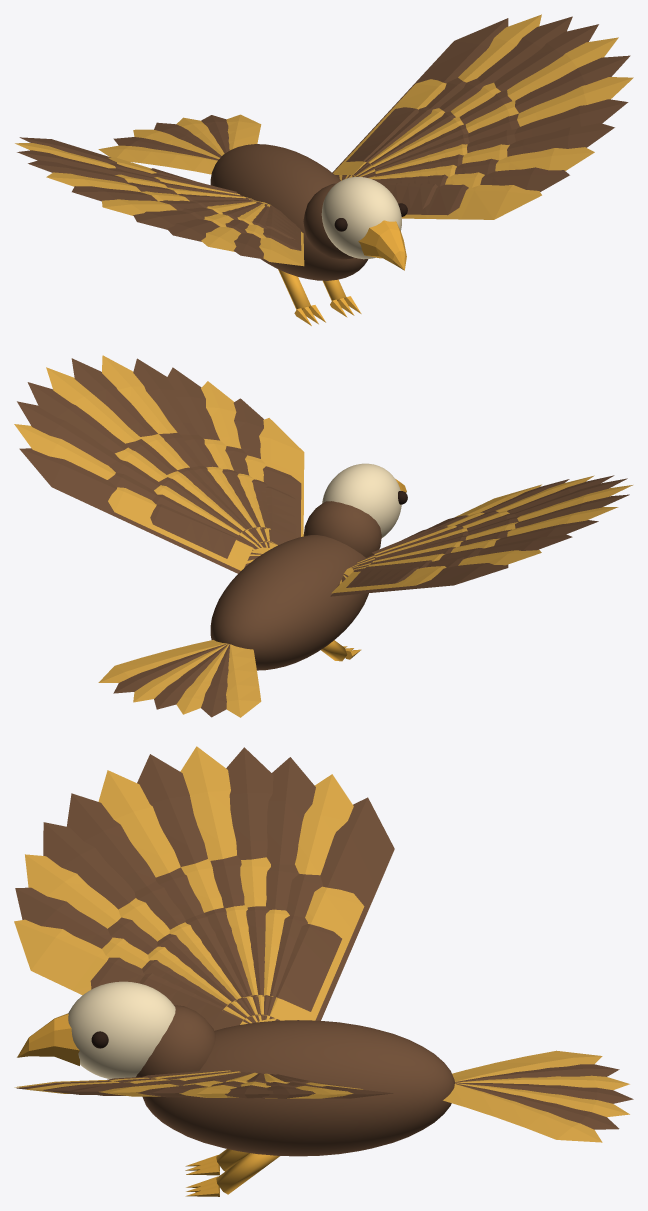
Rendered from eagle_flying.glb.
The picture shows the model from 3 angles, top to bottom: view 1: azimuth 30°, elevation 25°; view 2: azimuth 150°, elevation 25°; view 3: azimuth 270°, elevation 25°; orthographic projection. The views are drawn at different scales.
Visible parts, largest first — view 1: wing_R__eagle_brown_flat, wing_R__eagle_gold_flat, wing_L__eagle_brown_flat, body__eagle_brown, wing_L__eagle_gold_flat, body__eagle_cream, tail__eagle_gold_flat, tail__eagle_brown_flat, body__eagle_beak_flat, talons__eagle_beak, talons__eagle_beak_flat; view 2: wing_R__eagle_brown_flat, body__eagle_brown, wing_R__eagle_gold_flat, wing_L__eagle_brown_flat, wing_L__eagle_gold_flat, tail__eagle_gold_flat, body__eagle_cream, tail__eagle_brown_flat; view 3: wing_L__eagle_brown_flat, wing_L__eagle_gold_flat, body__eagle_brown, tail__eagle_gold_flat, body__eagle_cream, wing_R__eagle_brown_flat, tail__eagle_brown_flat, wing_R__eagle_gold_flat, body__eagle_beak_flat, talons__eagle_beak, talons__eagle_beak_flat.
Boxes of the visible parts, left/top/right/bottom form: wing_R__eagle_brown_flat: left=332, top=16, right=630, bottom=215; wing_R__eagle_gold_flat: left=333, top=14, right=633, bottom=219; wing_L__eagle_brown_flat: left=17, top=137, right=301, bottom=259; body__eagle_brown: left=210, top=144, right=368, bottom=280; wing_L__eagle_gold_flat: left=15, top=143, right=304, bottom=266; body__eagle_cream: left=321, top=176, right=401, bottom=259; tail__eagle_gold_flat: left=98, top=114, right=261, bottom=174; tail__eagle_brown_flat: left=113, top=115, right=229, bottom=160; body__eagle_beak_flat: left=358, top=220, right=406, bottom=270; talons__eagle_beak: left=278, top=269, right=346, bottom=309; talons__eagle_beak_flat: left=294, top=296, right=361, bottom=325; wing_R__eagle_brown_flat: left=17, top=358, right=301, bottom=573; body__eagle_brown: left=210, top=501, right=381, bottom=670; wing_R__eagle_gold_flat: left=14, top=355, right=304, bottom=570; wing_L__eagle_brown_flat: left=330, top=475, right=629, bottom=596; wing_L__eagle_gold_flat: left=331, top=475, right=632, bottom=593; tail__eagle_gold_flat: left=98, top=640, right=261, bottom=717; body__eagle_cream: left=322, top=463, right=401, bottom=537; tail__eagle_brown_flat: left=113, top=643, right=229, bottom=717; wing_L__eagle_brown_flat: left=15, top=747, right=394, bottom=1030; wing_L__eagle_gold_flat: left=14, top=746, right=364, bottom=1024; body__eagle_brown: left=136, top=1005, right=454, bottom=1156; tail__eagle_gold_flat: left=443, top=1050, right=629, bottom=1142; body__eagle_cream: left=68, top=981, right=175, bottom=1079; wing_R__eagle_brown_flat: left=16, top=1069, right=393, bottom=1098; tail__eagle_brown_flat: left=455, top=1064, right=633, bottom=1129; wing_R__eagle_gold_flat: left=14, top=1070, right=362, bottom=1098; body__eagle_beak_flat: left=17, top=1013, right=79, bottom=1065; talons__eagle_beak: left=216, top=1149, right=279, bottom=1194; talons__eagle_beak_flat: left=185, top=1155, right=219, bottom=1196.
Bounding box in the file's own units: 8.1 × 2.85 × 6.1.
